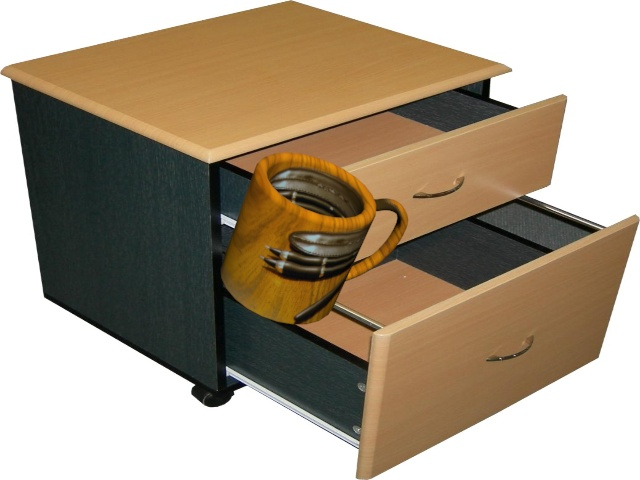mug: (209, 144, 417, 337)
